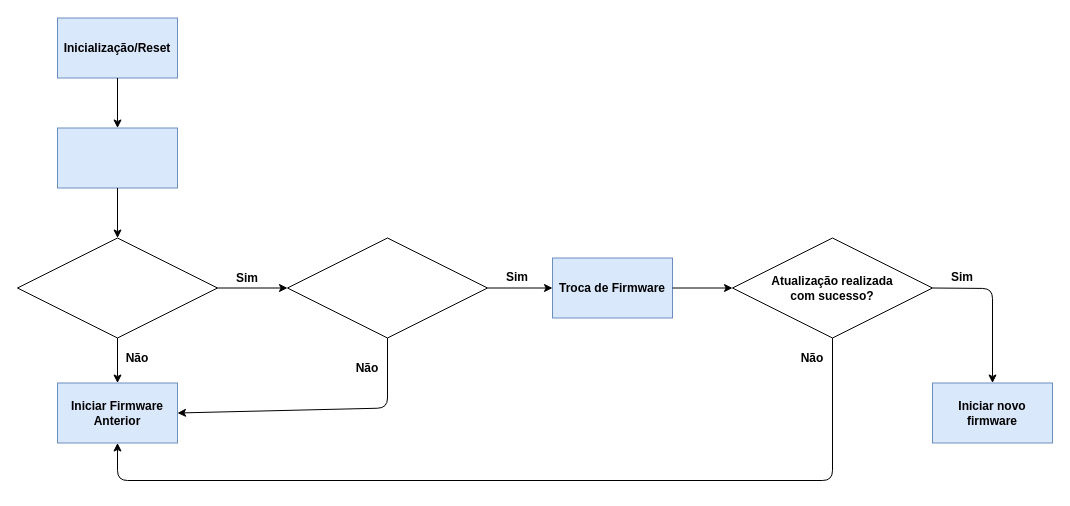
Image size: 1070x506. Some labels were removed from this diagram. The shapes that lost their labels are listed below. From the top down, each one's box as (x1, y1, x2, y2) in pixels, then its label:
(56, 127, 178, 188): Inicialização do Bootloader
(16, 237, 218, 338): Nova versão de Firmware na memória?
(286, 237, 488, 338): Integridade e origem confirmada?
